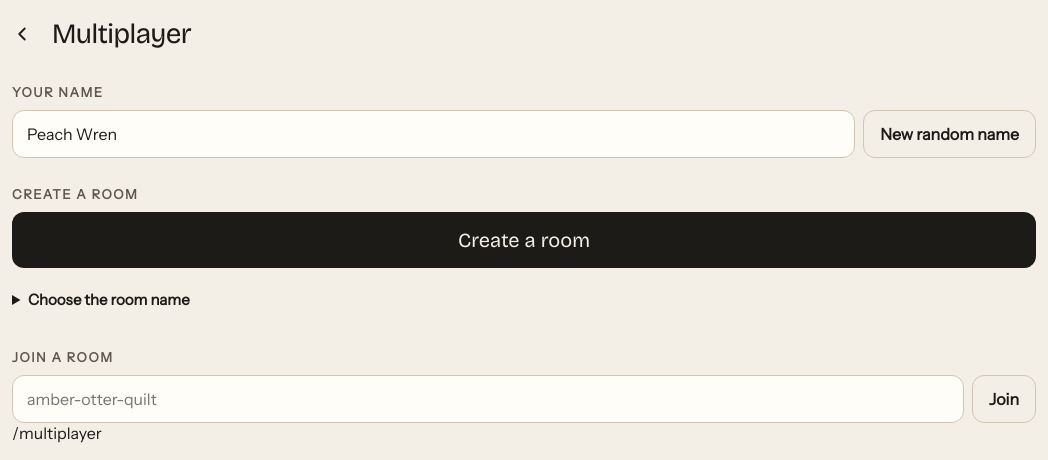
the Multiplayer screen › creates a room with a generated name and opens its lobby
Click the button "Create a room" at (524, 240), box x1=12 y1=212 x2=1036 y2=268
Wait 200 ms
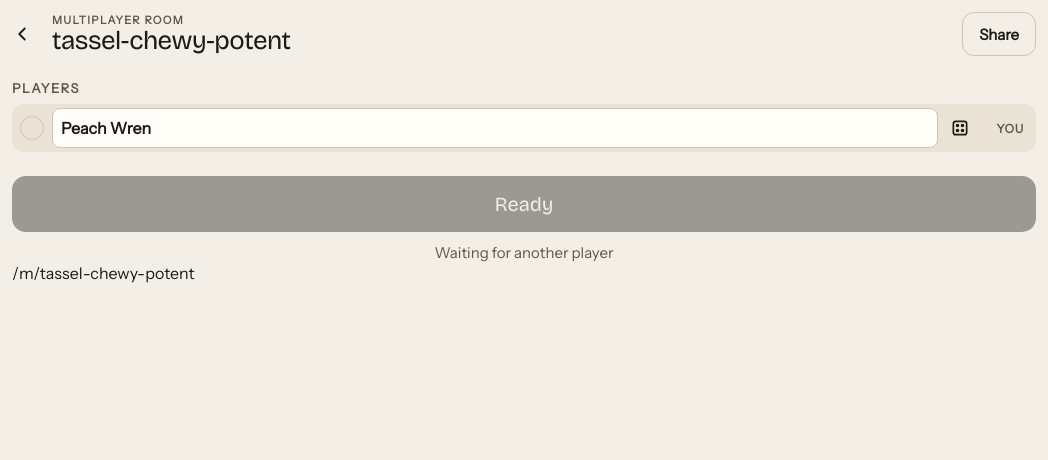
expect the text "You" is shown: met, box x1=996 y1=120 x2=1024 y2=136
expect the button "Ready" is disabled: met, box x1=12 y1=176 x2=1036 y2=232
expect the text "Waiting for another player" is shown: met, box x1=434 y1=243 x2=614 y2=262
